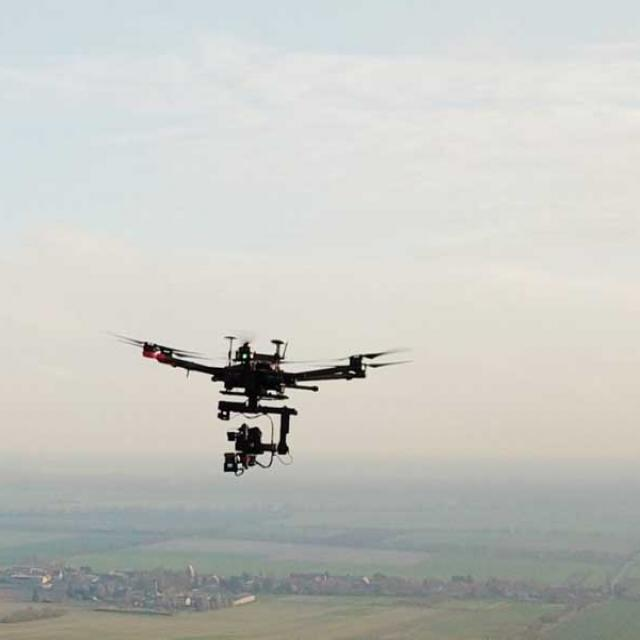drone: (96, 316, 429, 420)
